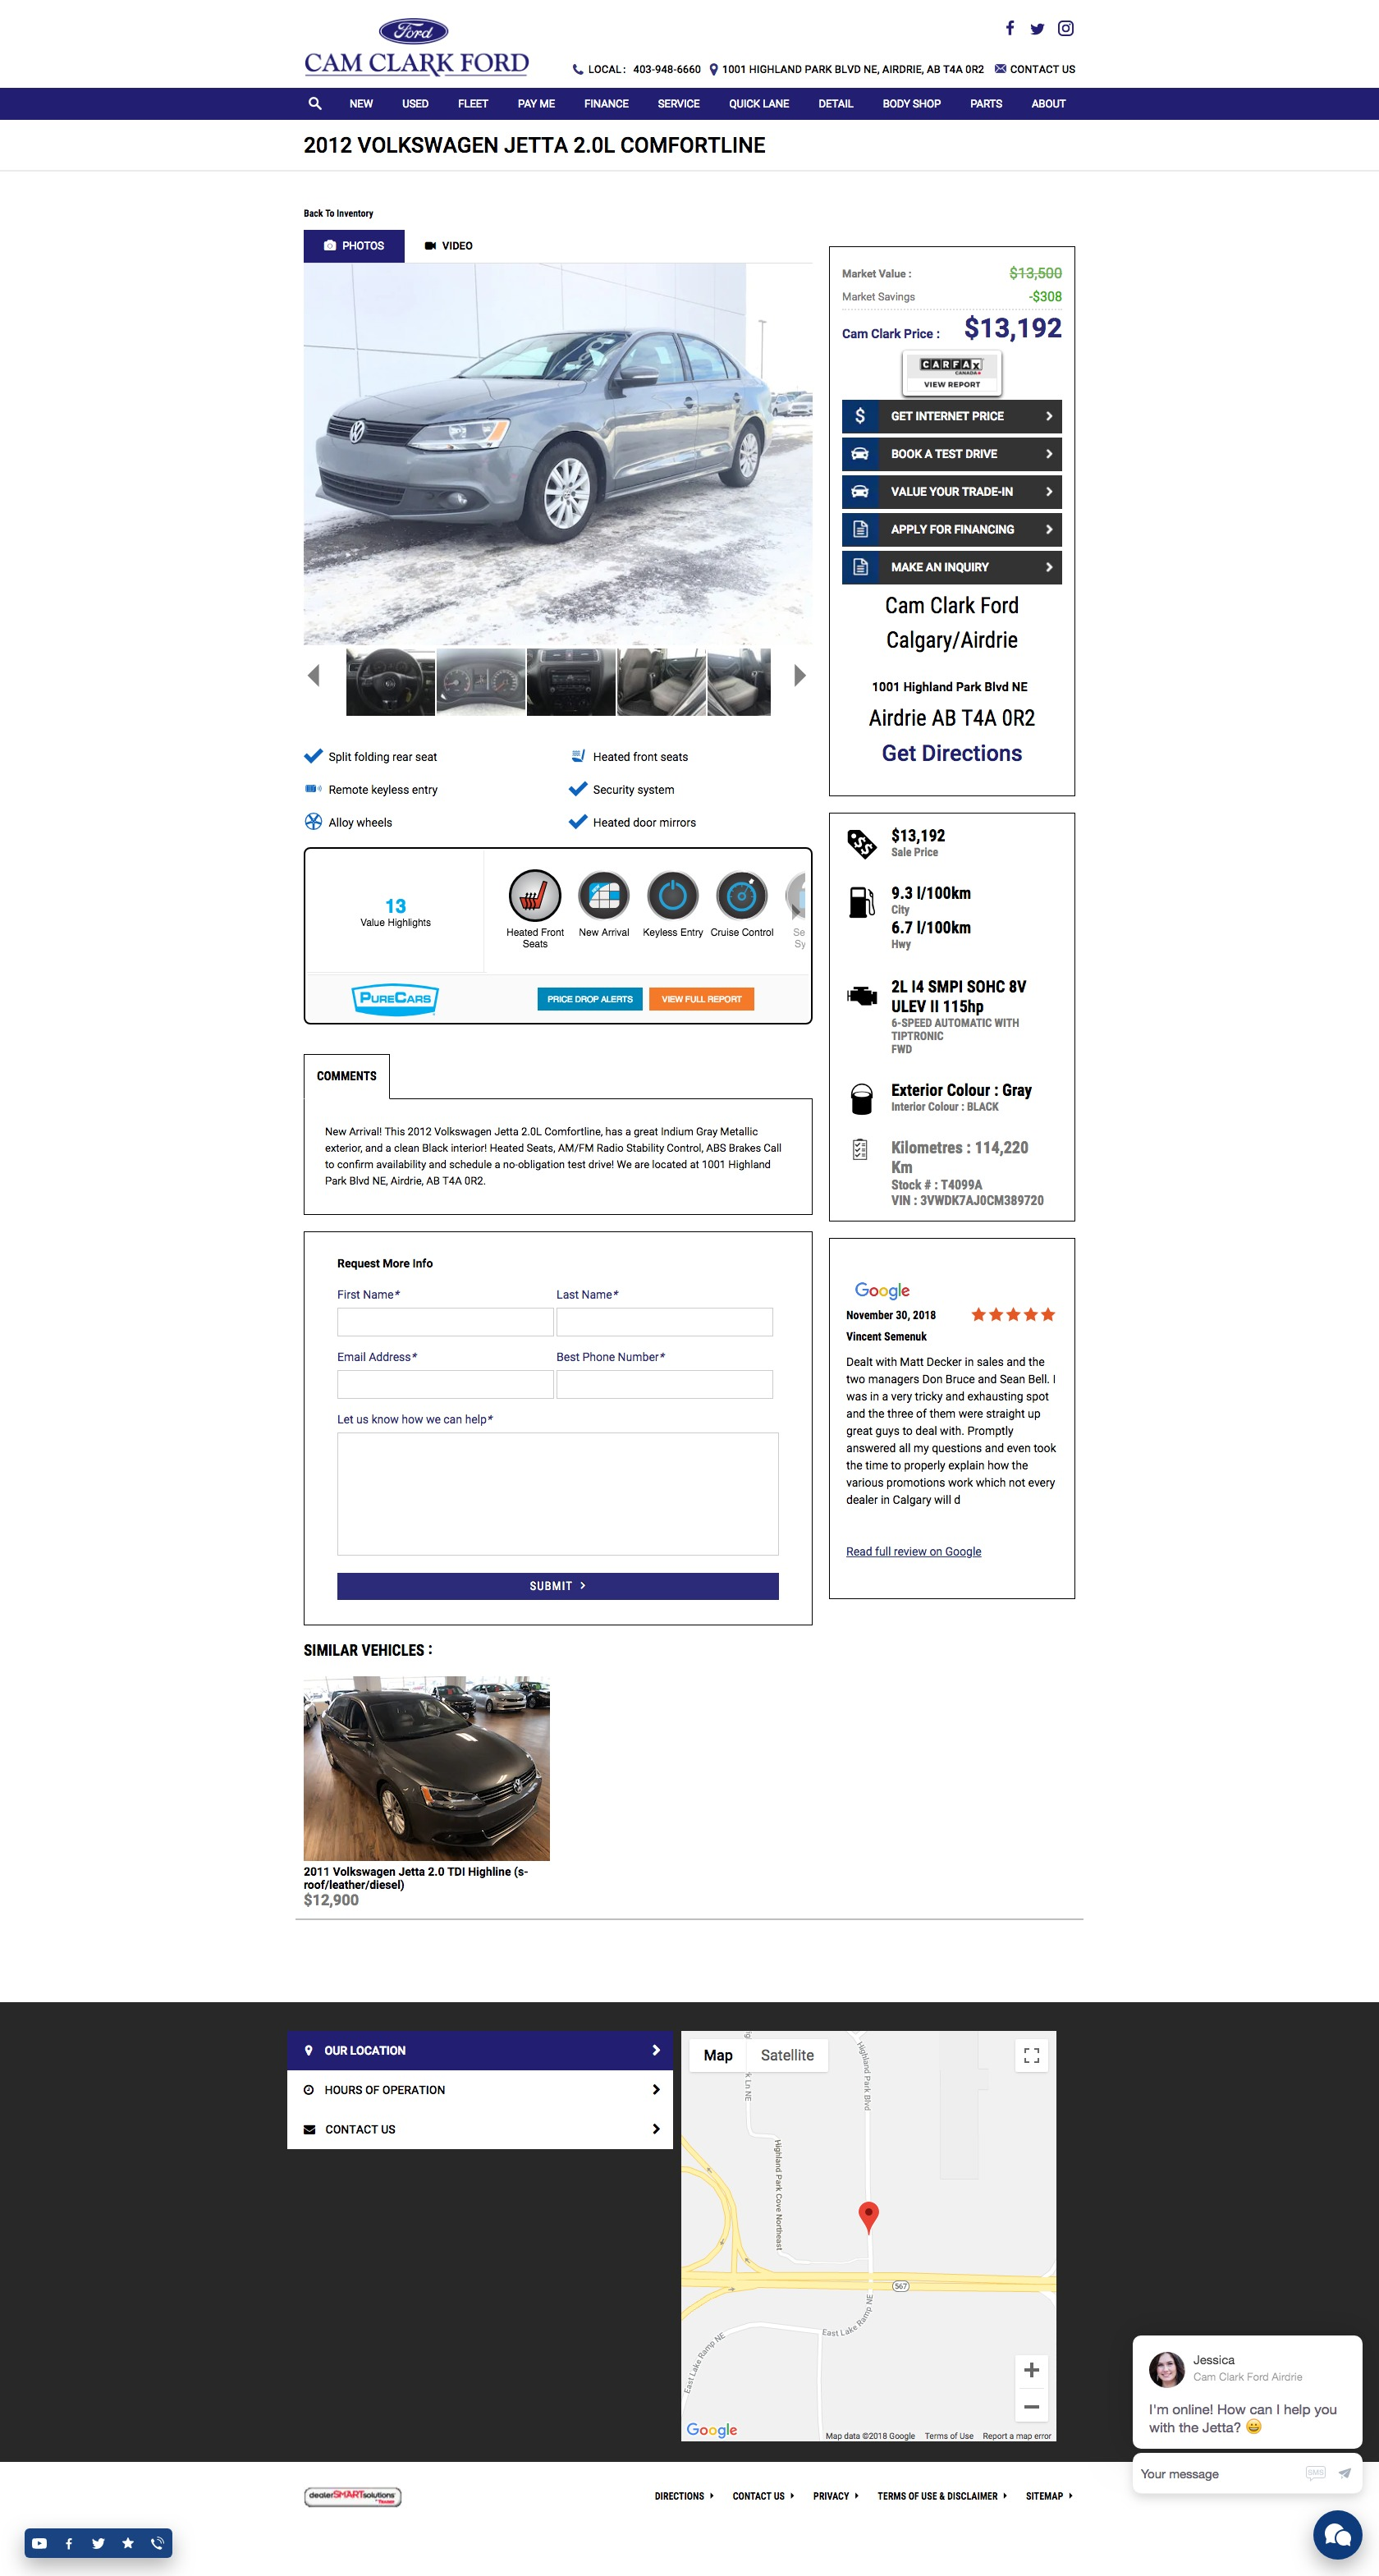car: (794, 666, 806, 688)
